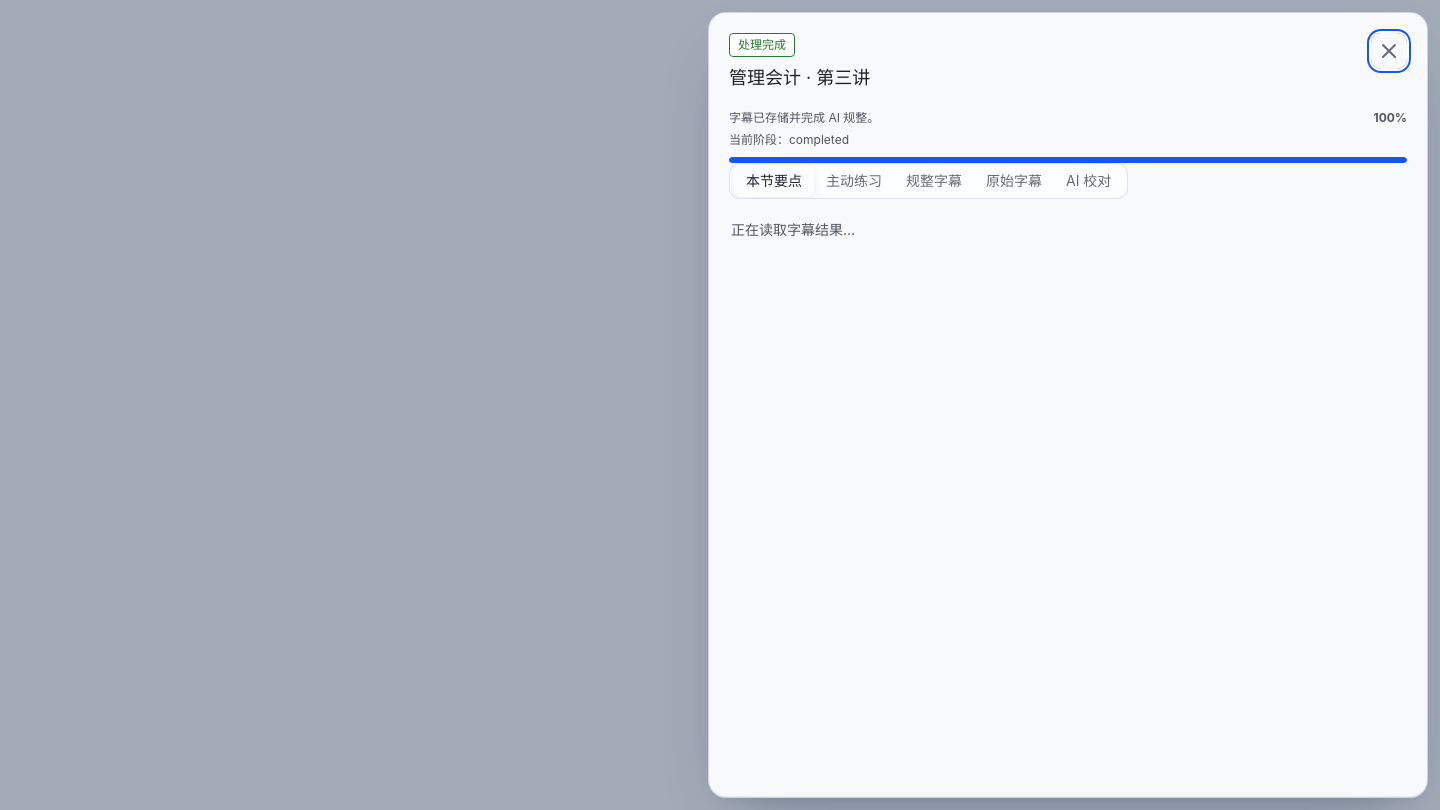
Scenario: TranscriptDetailDrawer Phase1 › retries a failed artifact read and does not cache the rejection
The image size is (1440, 810).
Press the mouse on the tab "AI 校对" at (1089, 181), box top-left (1054, 165), bottom-right (1123, 197)
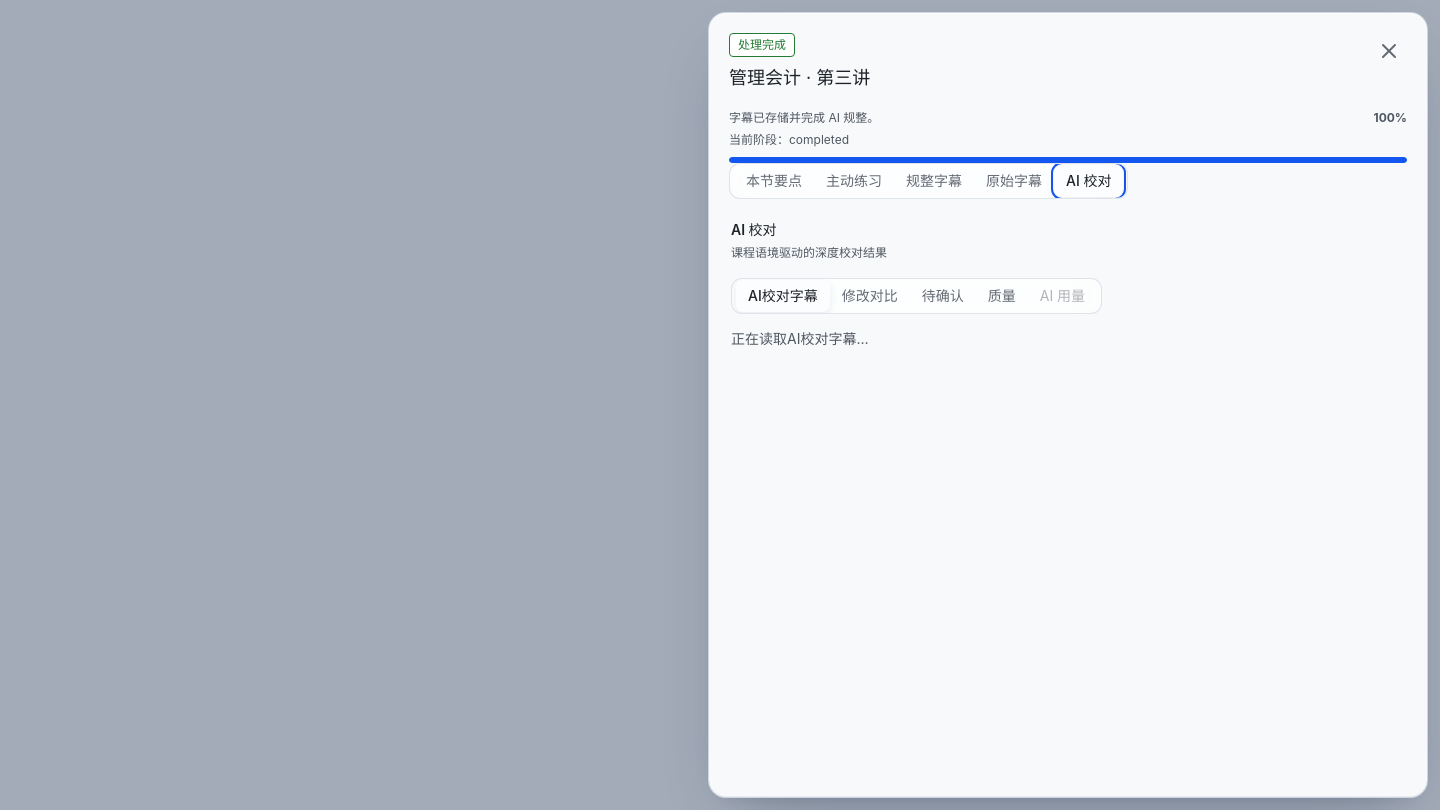
Press the mouse on the tab "AI校对字幕" at (783, 296), box top-left (736, 280), bottom-right (830, 312)
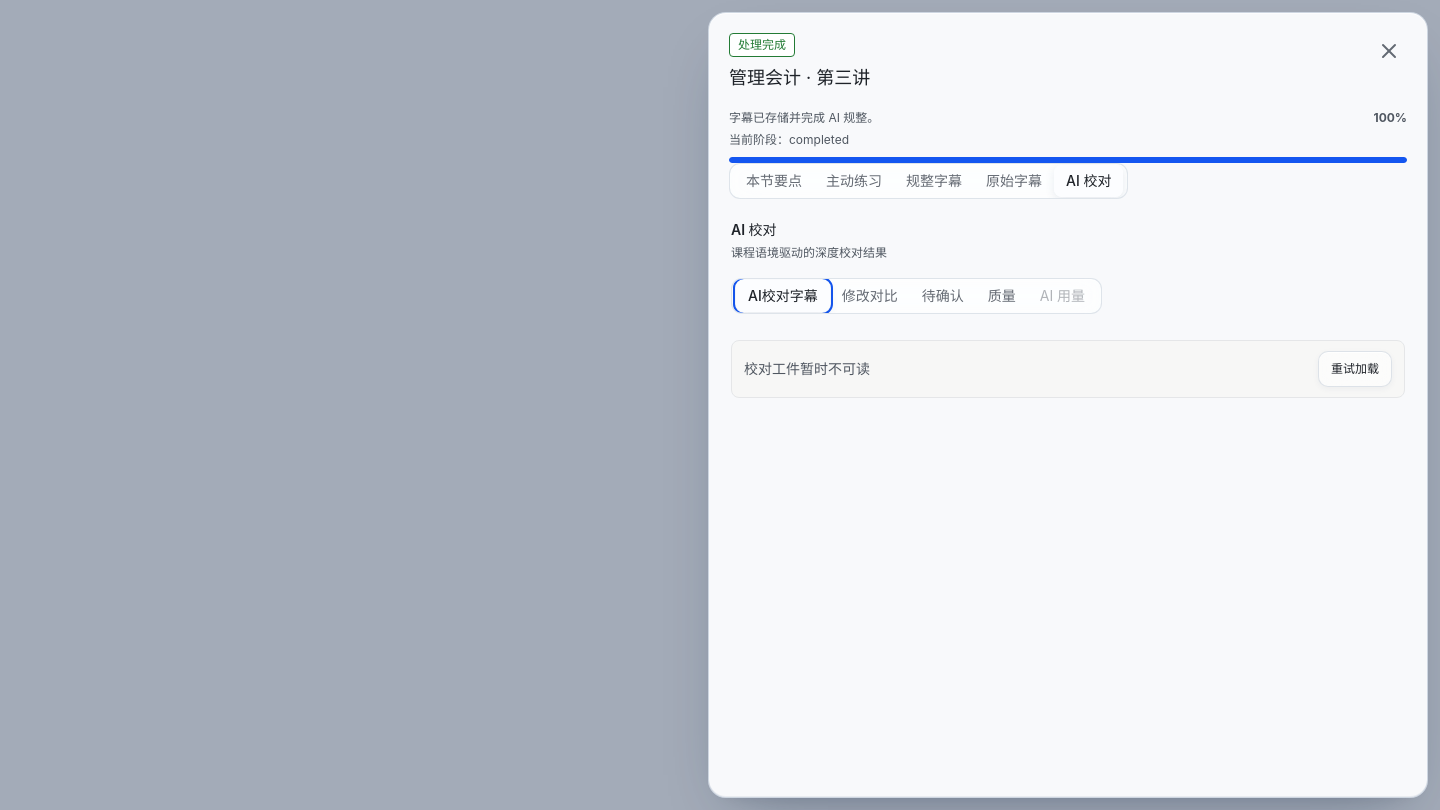
expect the text "校对工件暂时不可读" is shown: met, box top-left (744, 358), bottom-right (870, 380)
Click the button "重试加载". click: (1355, 369)
box: top-left (1318, 351), bottom-right (1392, 387)
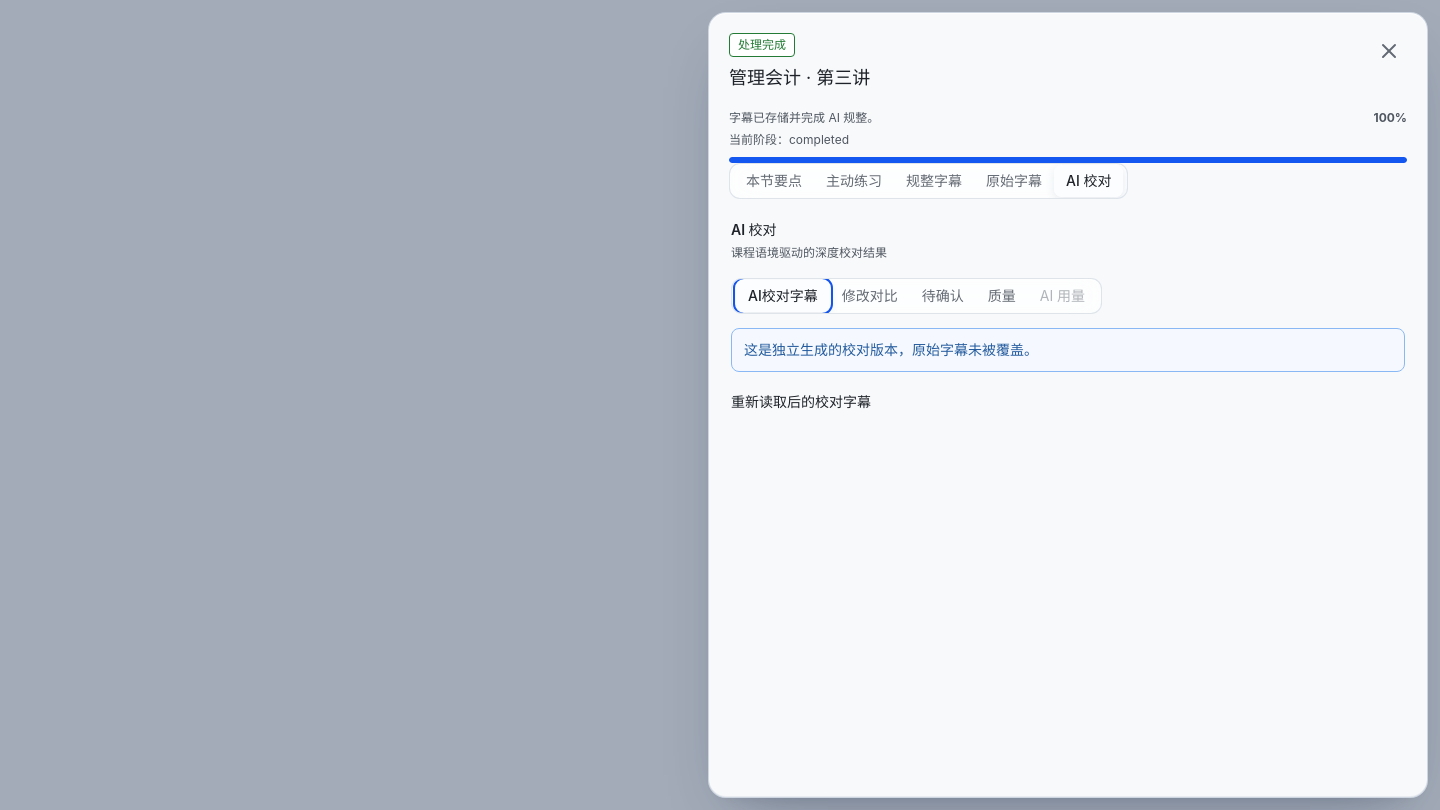
expect the text "重新读取后的校对字幕" is shown: met, box top-left (731, 393), bottom-right (871, 410)
